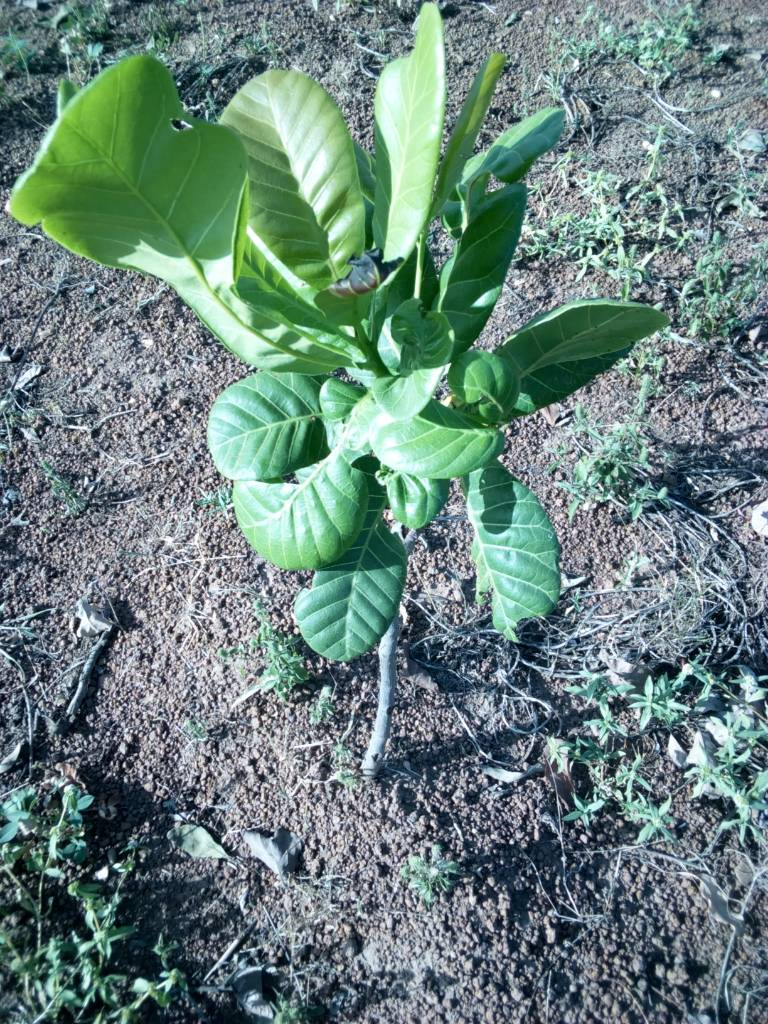Helopeltis anacardii: (15, 52, 352, 372), (374, 294, 536, 422)
